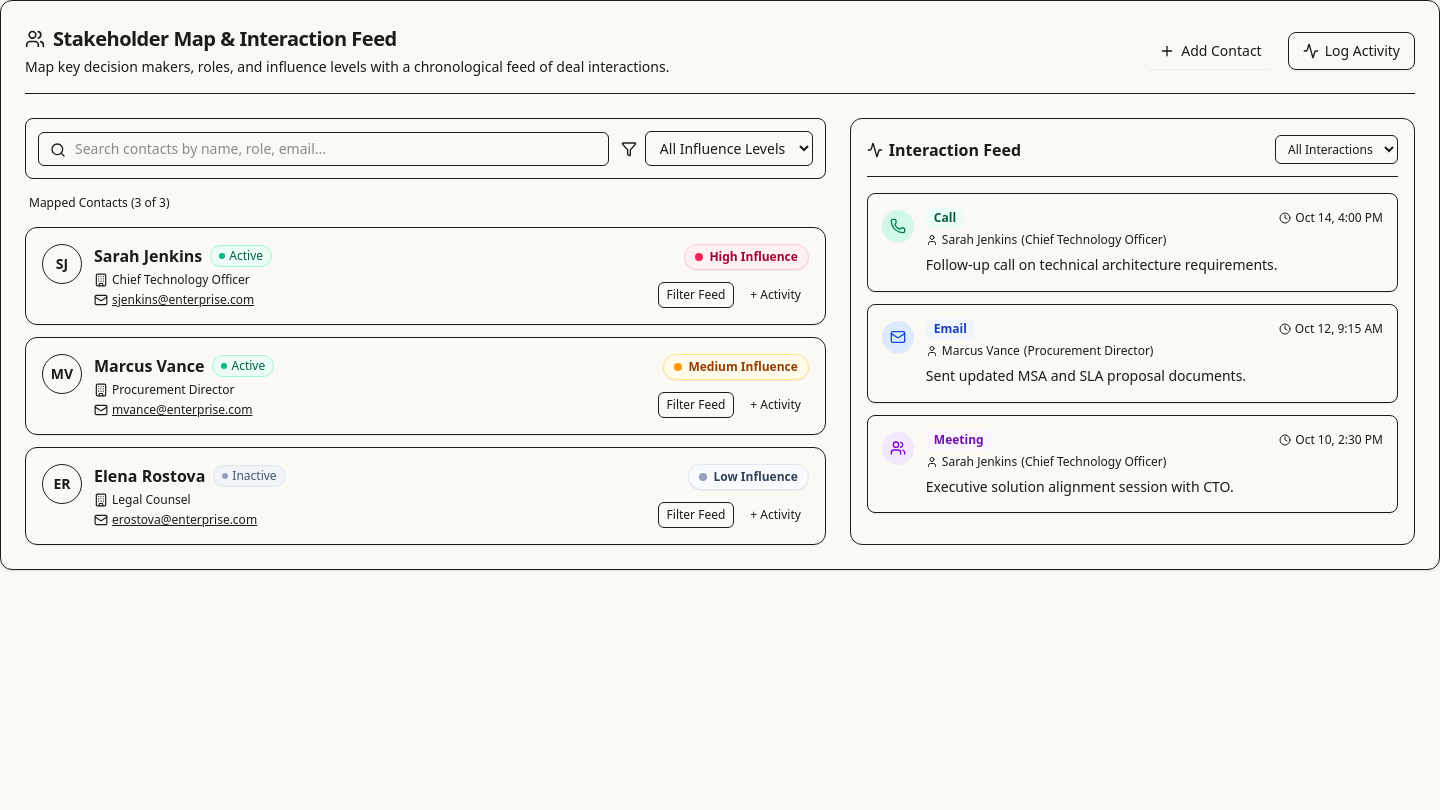
Test: StakeholderMap Component [FR-006, FR-007] › Chronological Interaction Feed [FR-007] › opens activity log modal and records new interaction activity
This screenshot has width=1440, height=810.
# Click "Log Activity" button
Click the button with test id "log-activity-btn": [1351, 51] box [1288, 32, 1415, 70]
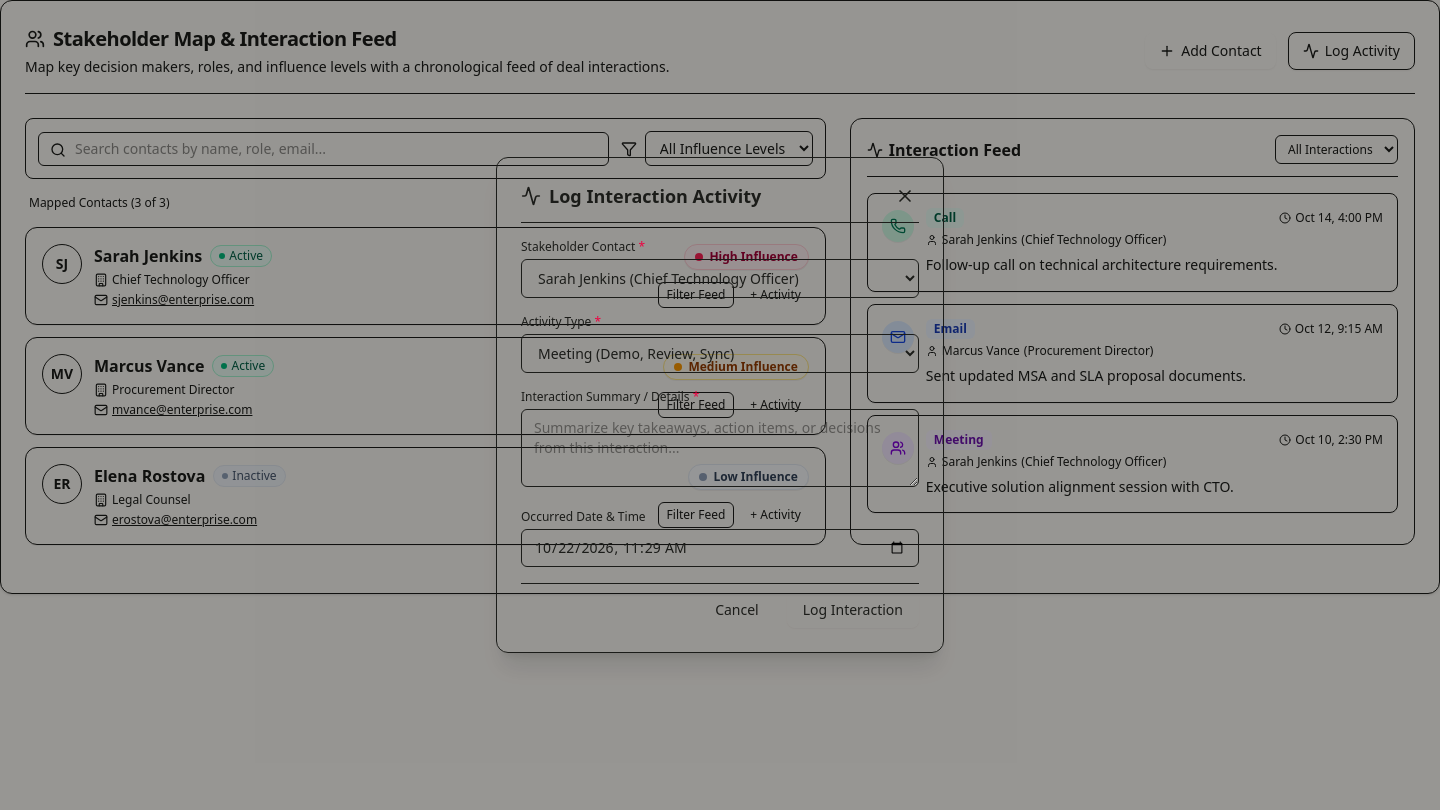
Now the form with test id "log-activity-form" is shown, box [521, 239, 919, 628]
Replace the text in the text box with placeholder "Summarize key takeaways, action items, or decisions from this interaction..." with "Demonstrated security compliance dashboard to procurement.": [720, 448] box [521, 409, 919, 487]
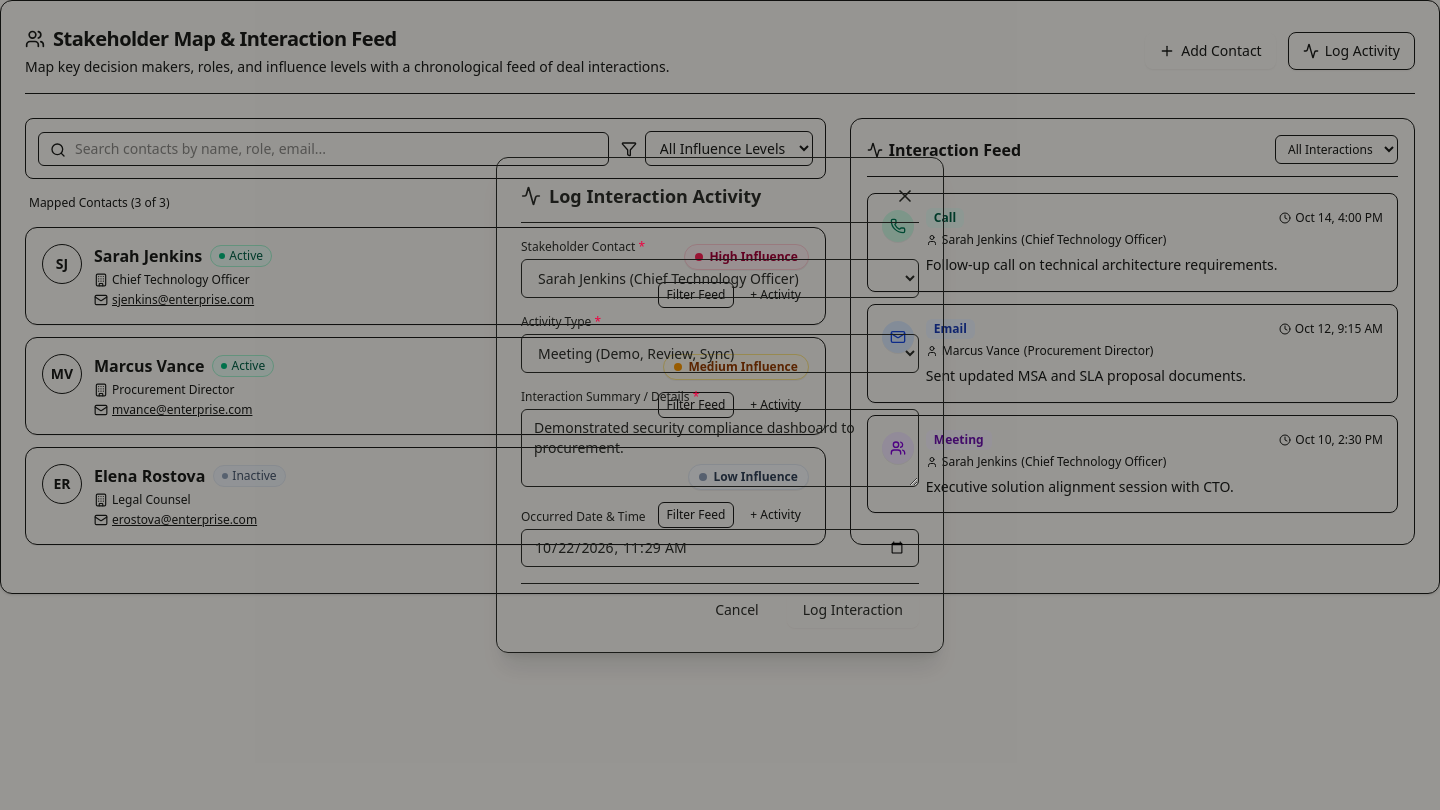
# Submit form
Submit the form with test id "log-activity-form", box [521, 239, 919, 628]
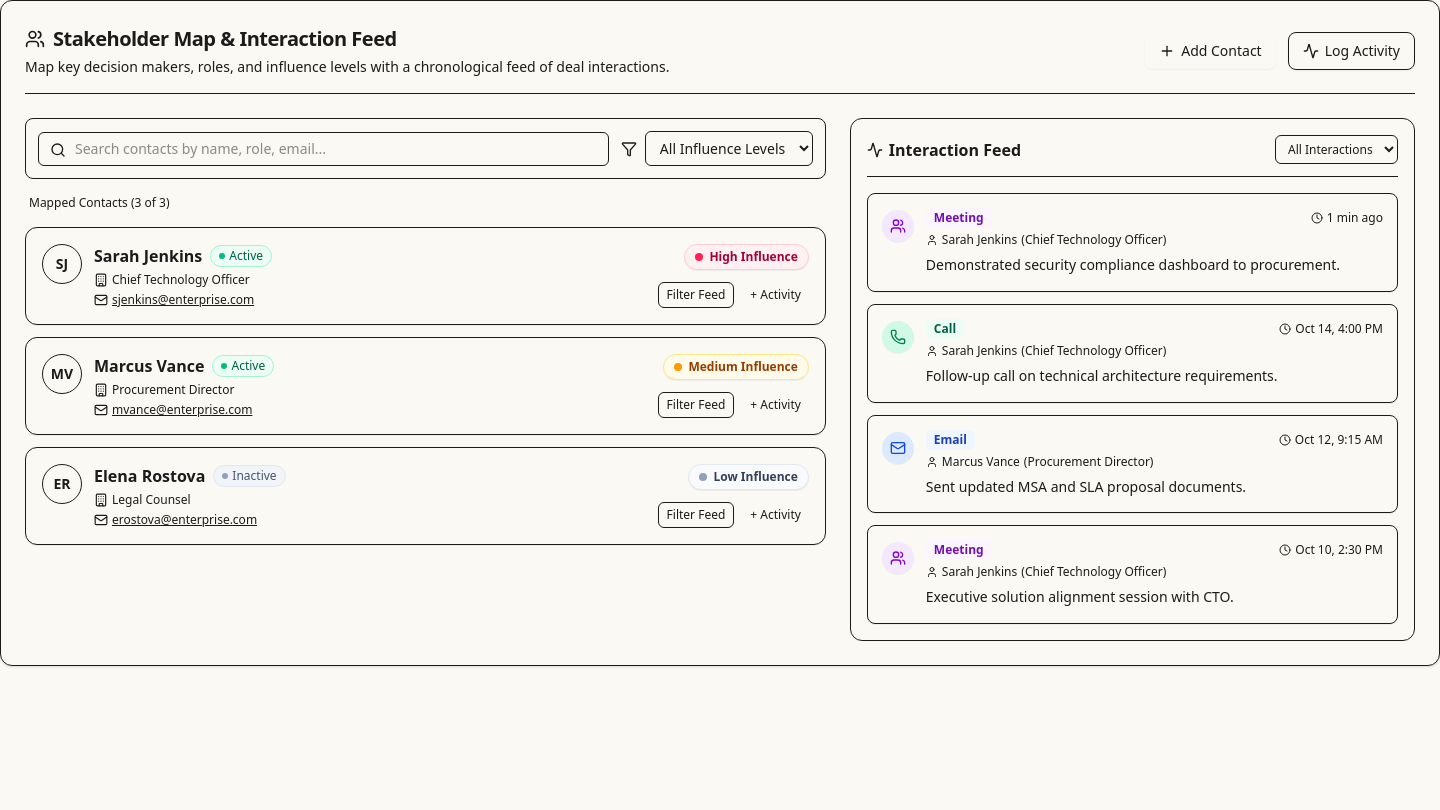
Now the text "Demonstrated security compliance dashboard to procurement." is shown, box [926, 252, 1383, 277]
